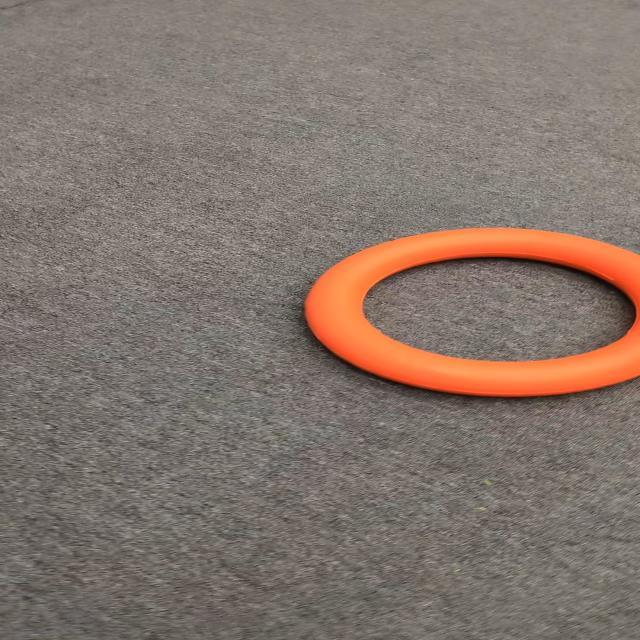note: (300, 225, 640, 401), (300, 225, 640, 385)
